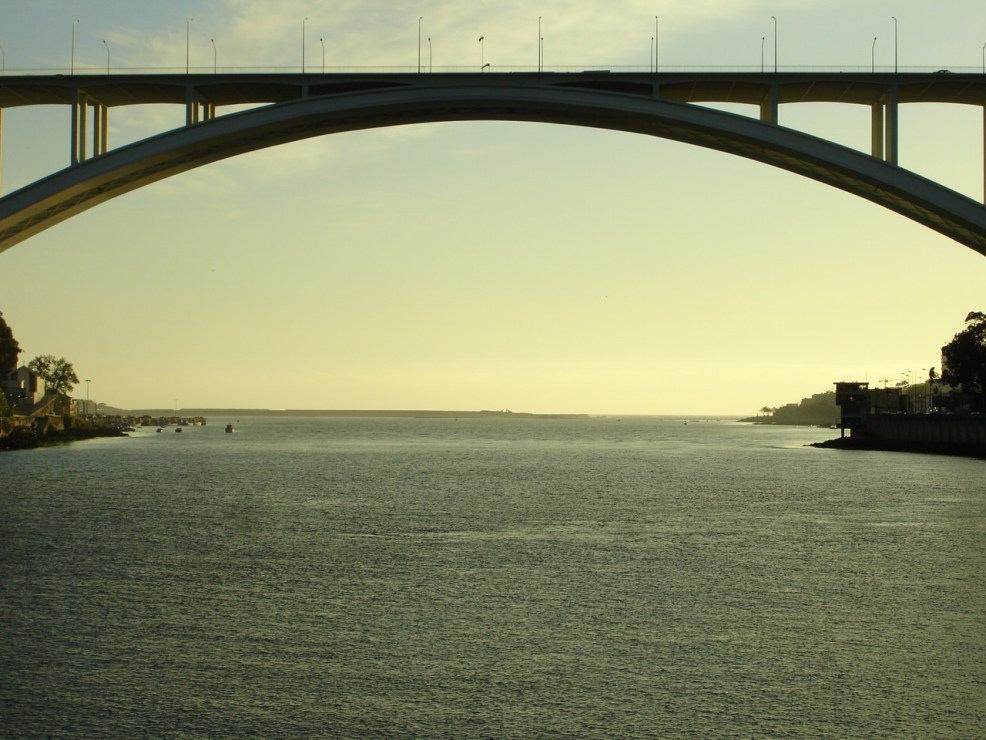arrabida: (0, 71, 985, 258)
